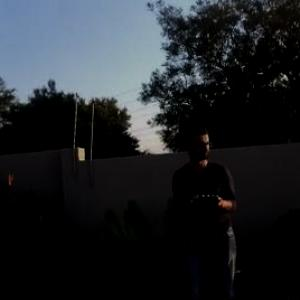follow: (169, 114, 245, 299)
